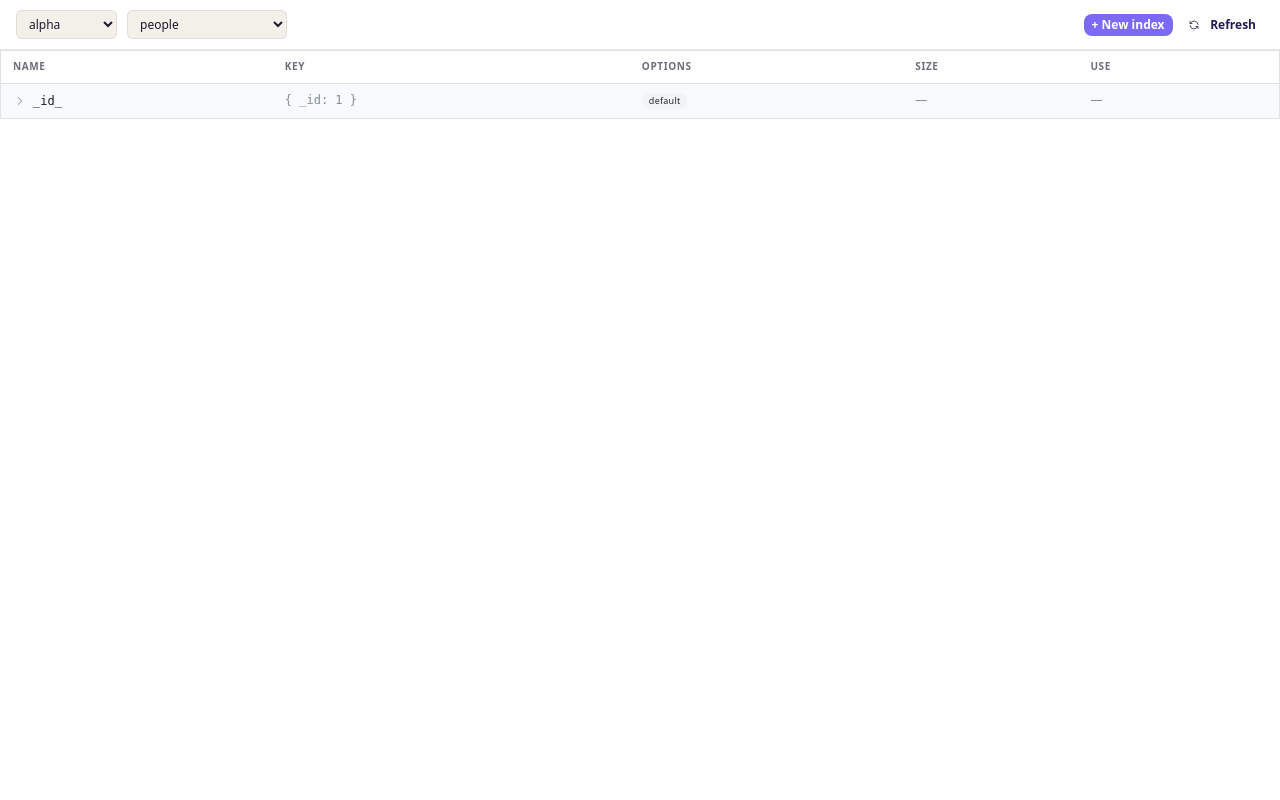
Test: CreateIndexDrawer — dialog shell (X15 T7) › puts role="dialog" on the panel — the element holding the form, not the backdrop
Expected: the text "_id_" is shown, [33,92,62,110]
Click the button "+ New index" at coordinates (1128, 24), box [1084,14,1172,36]
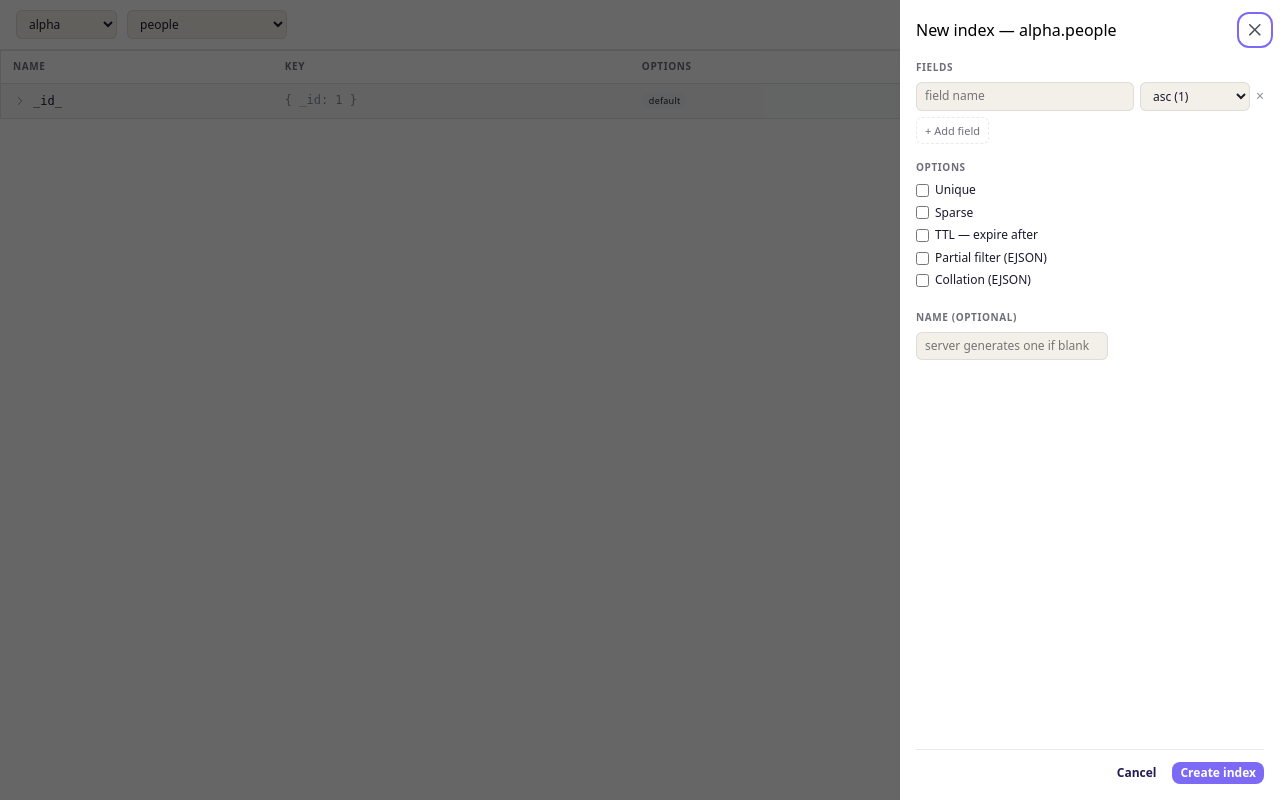
Result: the field named "Field 1" is shown at [916,82,1134,110]
